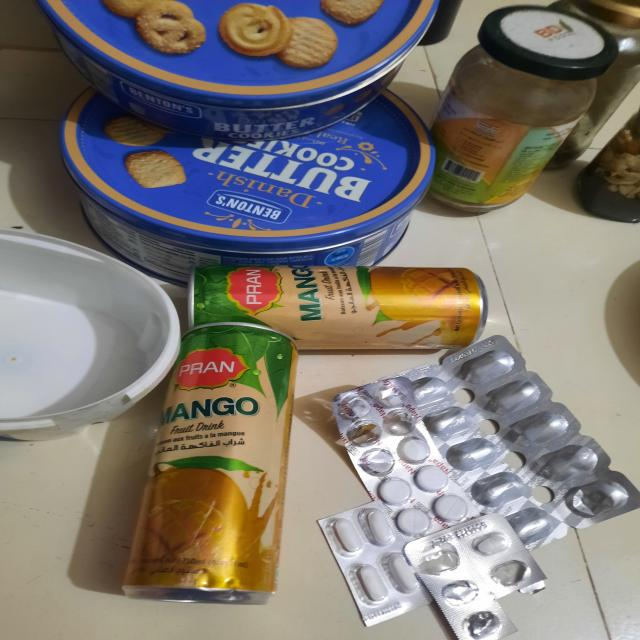Medical Waste: (345, 334, 631, 640)
Plastics: (6, 237, 169, 467)
can: (27, 0, 462, 260), (154, 334, 338, 614), (188, 258, 497, 344)
